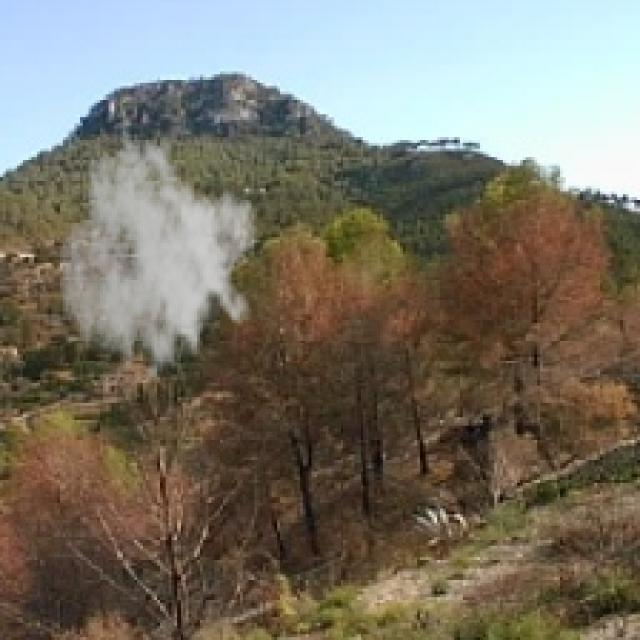Smoke: (57, 128, 260, 400)
